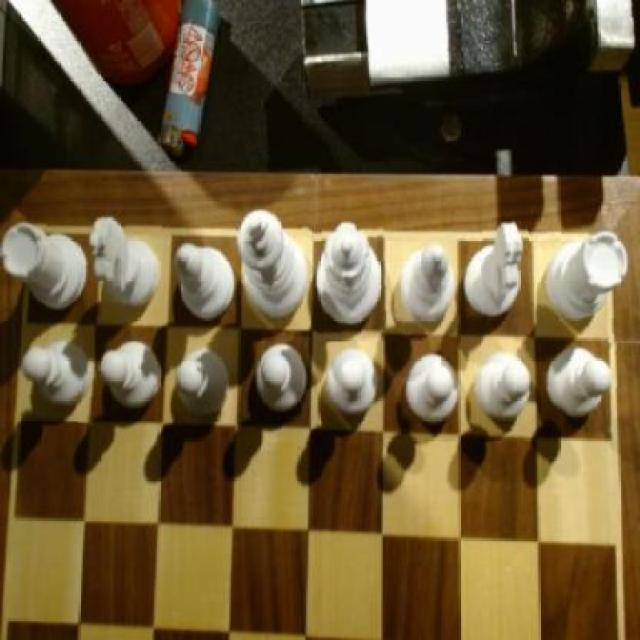black-rook: (398, 237, 459, 333), (174, 238, 239, 326)
white-bishop: (235, 200, 310, 328)
white-king: (90, 212, 162, 317), (465, 223, 529, 323)
white-knight: (22, 331, 96, 422), (545, 342, 617, 433), (96, 328, 166, 412), (472, 349, 534, 433), (324, 343, 382, 429), (255, 334, 311, 422), (402, 352, 462, 433), (174, 343, 230, 423)
white-pawn: (314, 212, 388, 336)
white-queen: (545, 226, 632, 333), (0, 214, 89, 314)
